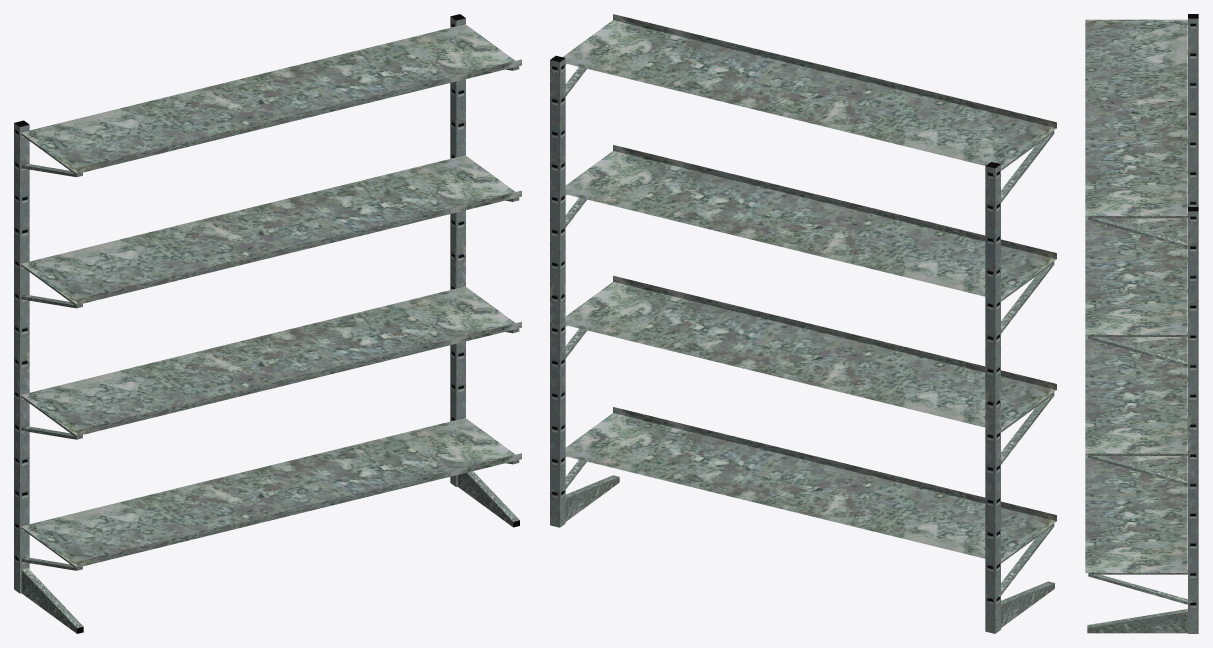
File: chem_lab_jar_shelf.fbx
The picture shows the model from 3 angles, left to right: view 1: azimuth 30°, elevation 25°; view 2: azimuth 150°, elevation 25°; view 3: azimuth 270°, elevation 25°; orthographic projection. The views are drawn at different scales.
Visible parts, largest first — view 1: mesh_0; view 2: mesh_0; view 3: mesh_0.
Boxes of the visible parts, <box> form: mesh_0: <box>14,14,521,633</box>; mesh_0: <box>550,14,1056,633</box>; mesh_0: <box>1085,14,1198,633</box>.
Size of the model in its own units: 200 by 200 by 48.52.
Materials: 1 (1 with a texture image).
